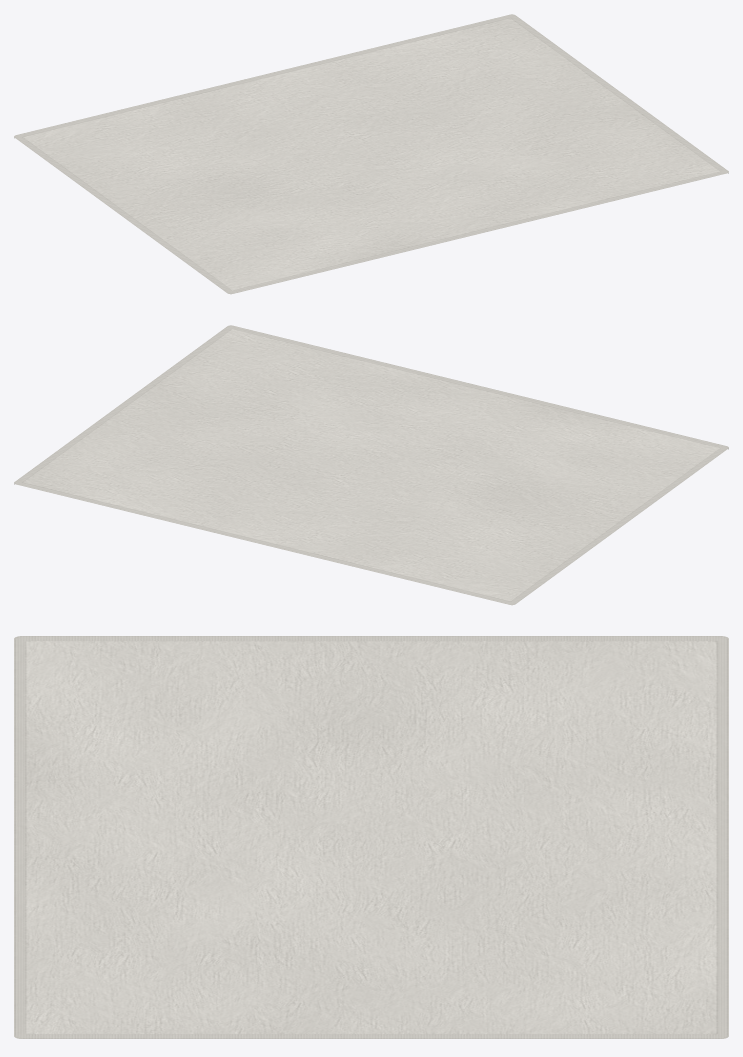
File: ivory_M_r90.glb
3 views of the same model, one above another, from view 1: azimuth 30°, elevation 25°; view 2: azimuth 150°, elevation 25°; view 3: azimuth 270°, elevation 25° (orthographic). The views are drawn at different scales.
Visible parts, largest first — view 1: reliv_ivory_M_r90; view 2: reliv_ivory_M_r90; view 3: reliv_ivory_M_r90.
Part boxes in pixels (box(x1,y1,x2,y2)): reliv_ivory_M_r90: box(14, 14, 728, 294); reliv_ivory_M_r90: box(14, 325, 728, 605); reliv_ivory_M_r90: box(14, 636, 728, 1038).
Size of the model in its own units: 2 by 0.009 by 1.5.
Materials: 2 (1 with a texture image).
